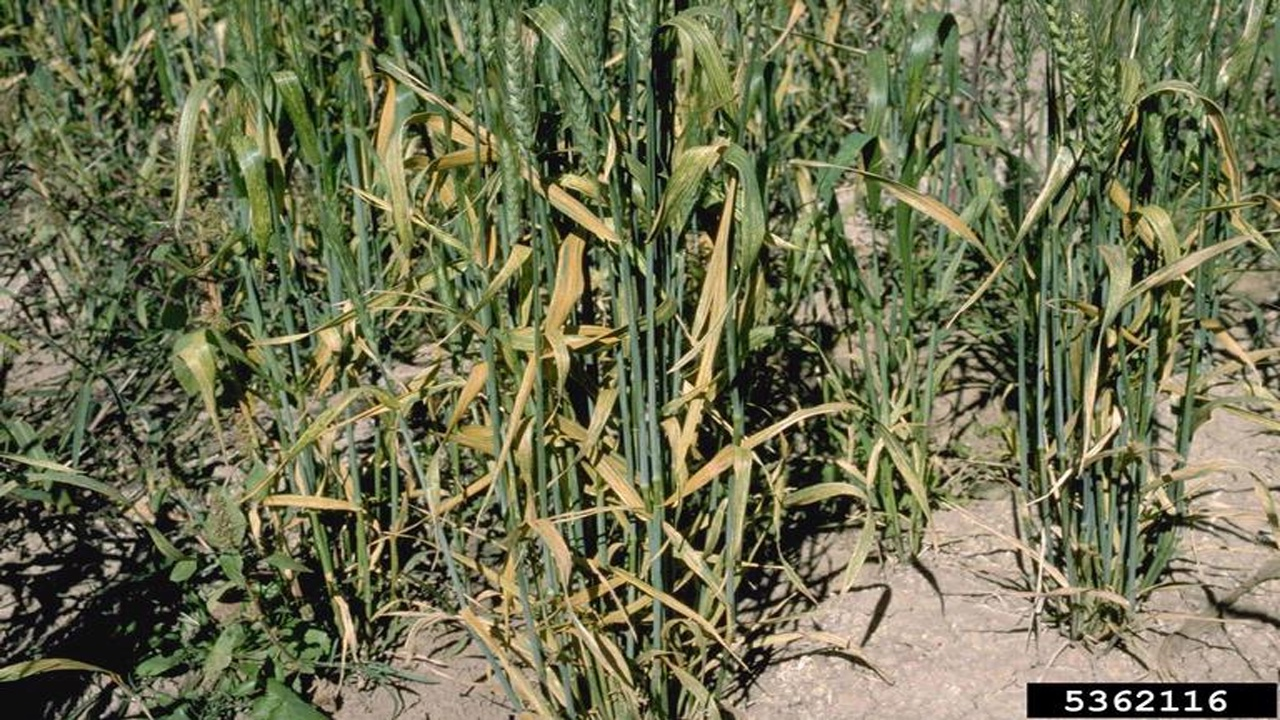stripe_rust: (656, 407, 826, 507), (552, 420, 655, 523), (794, 485, 875, 599), (383, 115, 437, 250), (652, 145, 722, 234), (540, 222, 594, 334)
